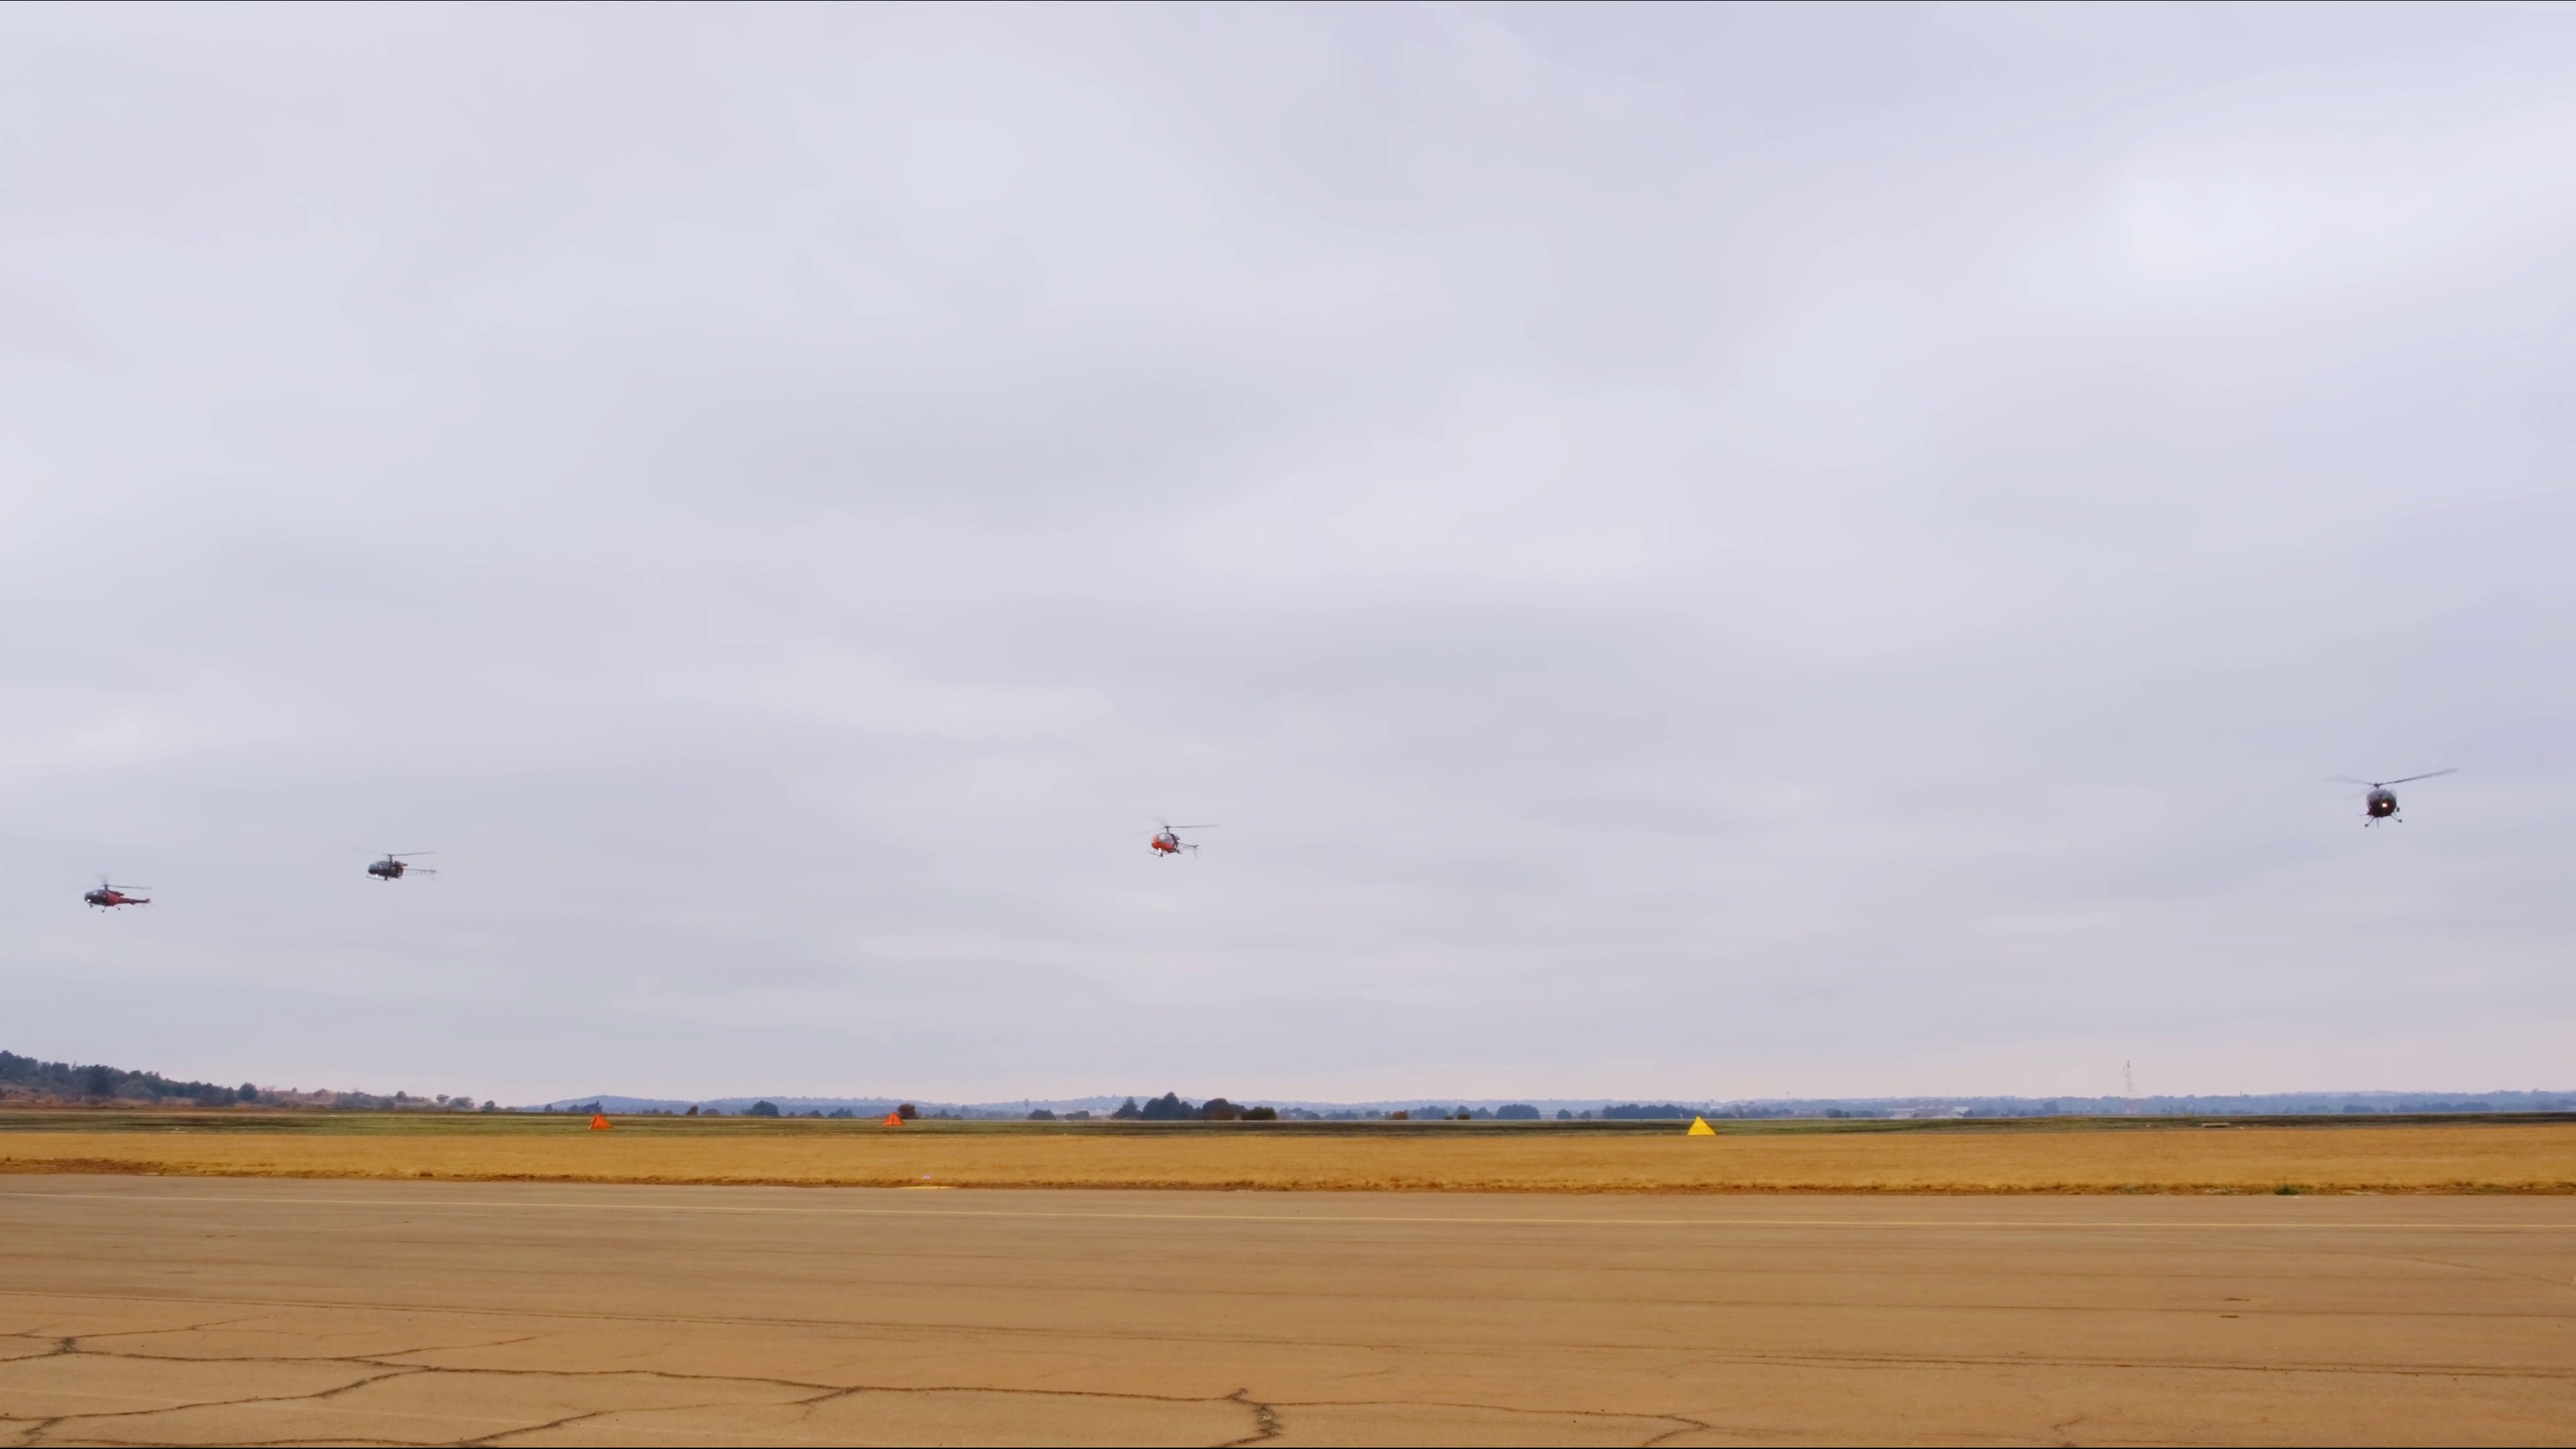heli: (2337, 766, 2450, 830), (368, 849, 444, 886), (1148, 819, 1221, 858), (81, 879, 150, 913)
